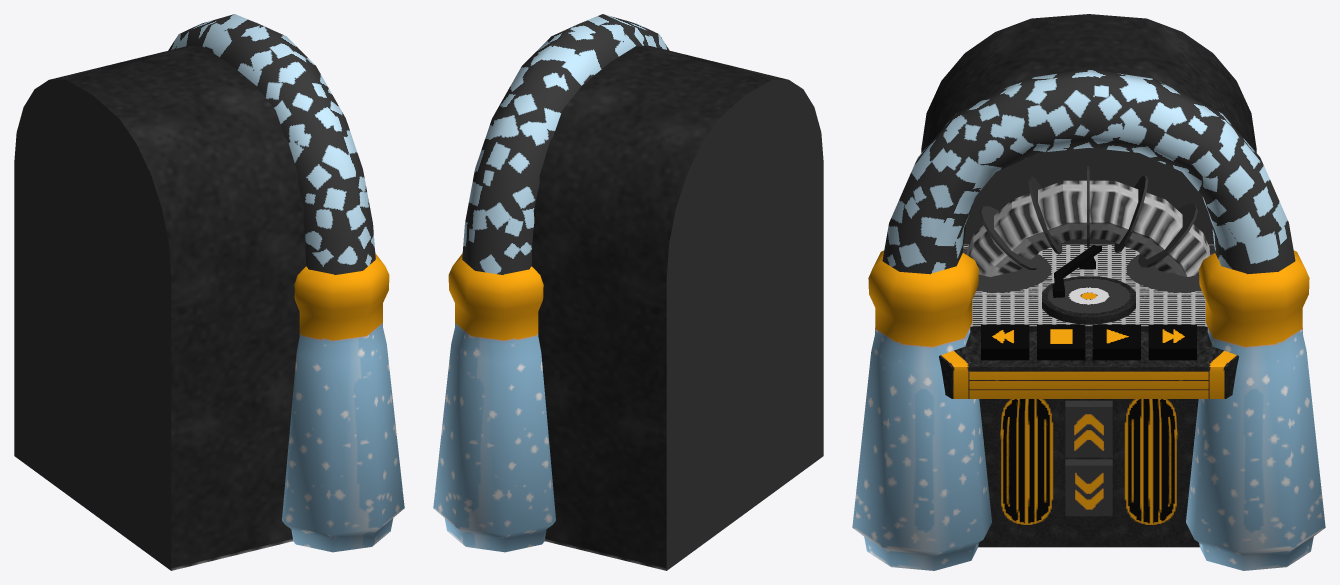
File: salt-jukebox.glb
3 views of the same model, side by side, from view 1: azimuth 30°, elevation 25°; view 2: azimuth 150°, elevation 25°; view 3: azimuth 270°, elevation 25° (orthographic). The views are drawn at different scales.
Parts seen in each view (by area): view 1: Body.LP.Salt, Shaker, Arch.Salt; view 2: Body.LP.Salt, Shaker, Arch.Salt; view 3: Shaker, Body.LP.Salt, Arch.Salt, Board, Torus.007, LP.LP.Salt, LP.Ring.003, Salt.Button.vol, Salt.Button.vol.001, Salt.Button, Salt.Button.001, Salt.Button.002 (+2 smaller).
Boxes of the visible parts, <box> form: Body.LP.Salt: <box>14,46,306,570</box>; Shaker: <box>282,253,404,552</box>; Arch.Salt: <box>168,14,375,274</box>; Body.LP.Salt: <box>531,46,823,570</box>; Shaker: <box>433,253,555,552</box>; Arch.Salt: <box>462,14,669,274</box>; Shaker: <box>852,250,1325,570</box>; Body.LP.Salt: <box>921,14,1256,547</box>; Arch.Salt: <box>882,69,1295,274</box>; Board: <box>939,331,1238,398</box>; Torus.007: <box>965,180,1212,276</box>; LP.LP.Salt: <box>1042,276,1135,324</box>; LP.Ring.003: <box>963,166,1214,269</box>; Salt.Button.vol: <box>1065,459,1112,516</box>; Salt.Button.vol.001: <box>1065,400,1112,457</box>; Salt.Button: <box>981,324,1029,360</box>; Salt.Button.001: <box>1037,324,1085,360</box>; Salt.Button.002: <box>1092,324,1140,360</box>.
Bounding box in the file's own units: 1.28 × 2.42 × 2.19.
4 materials, 4 textured.
